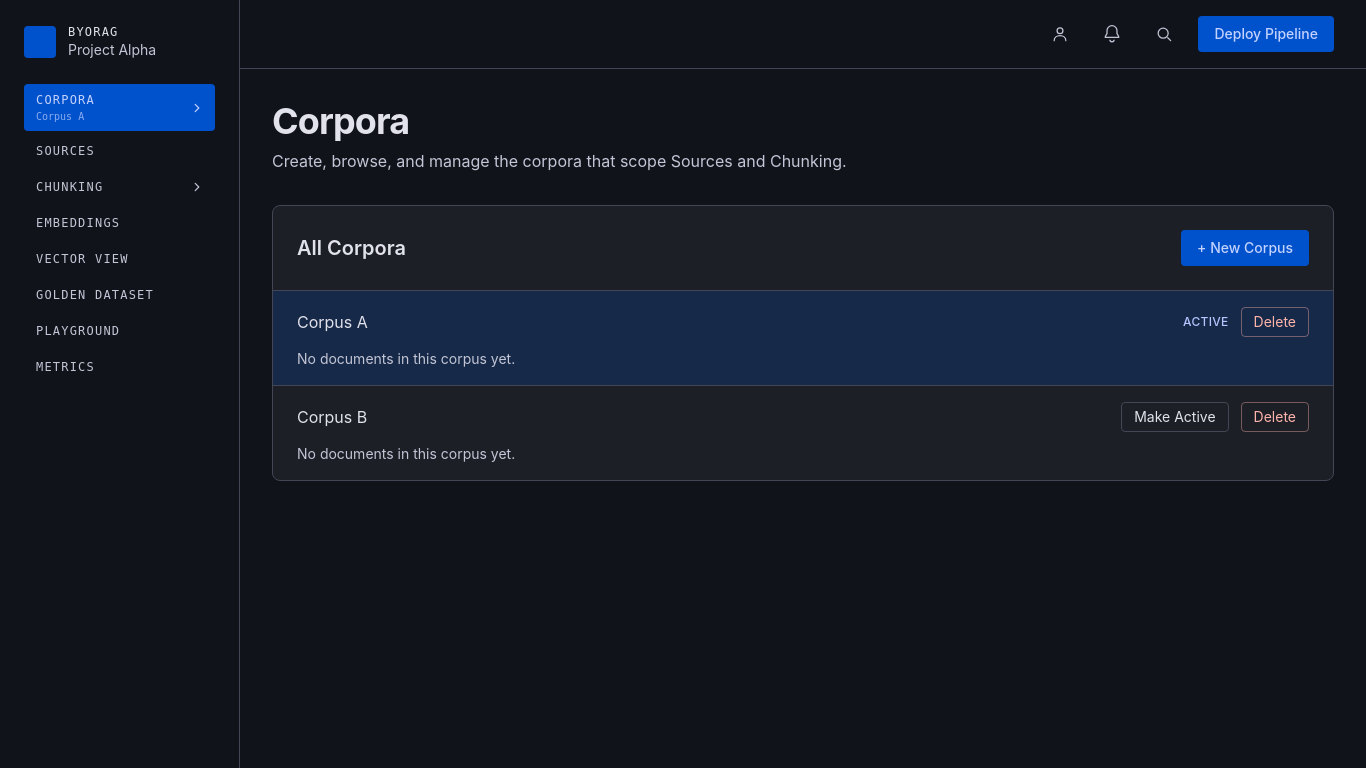
CorporaScreen: Make Active per row (011-move-corpus-row-actions US1) › shows a "Make Active" action on non-active rows, and switches the active corpus when clicked
Click the button with aria-label "make corpus b active". click: (1175, 417)
box: [1121, 402, 1229, 432]
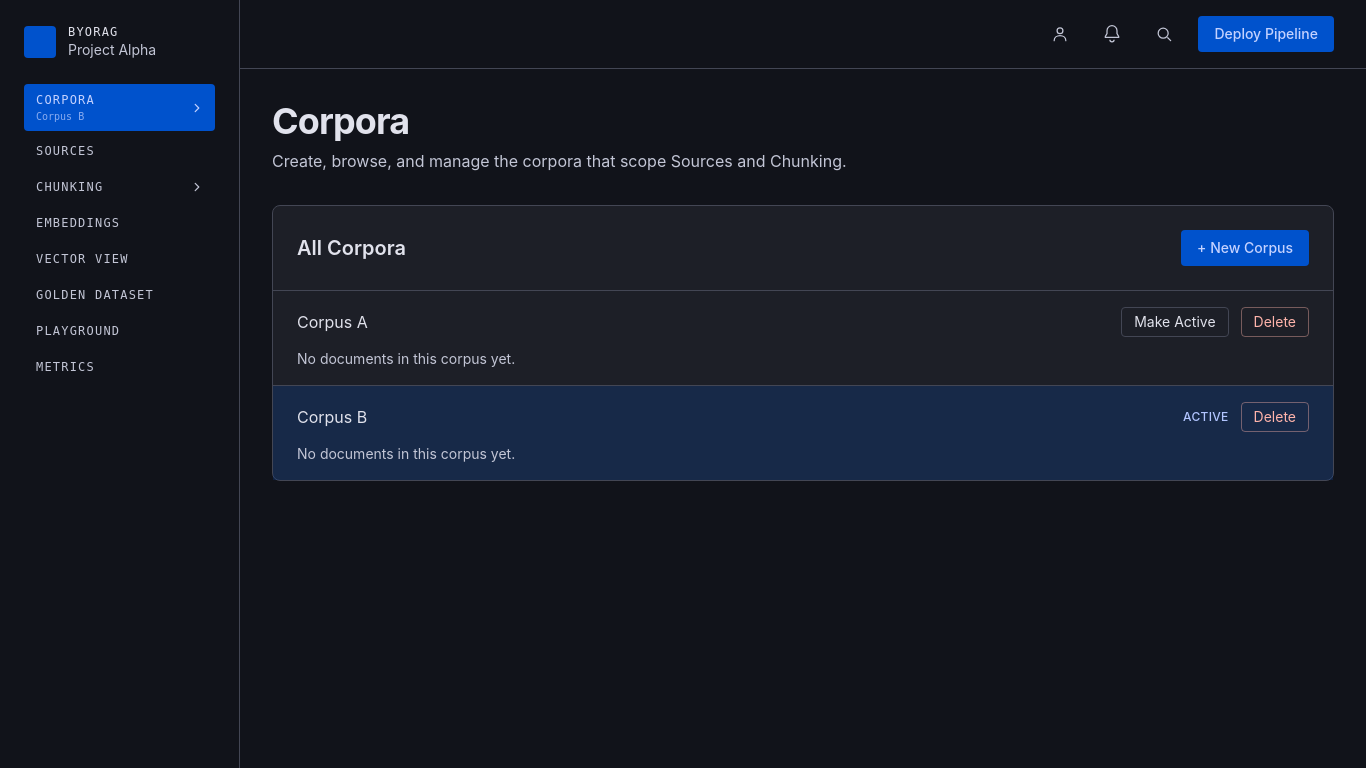
Check: the button with aria-label "make corpus a active" is shown, box [1121, 307, 1229, 337]
